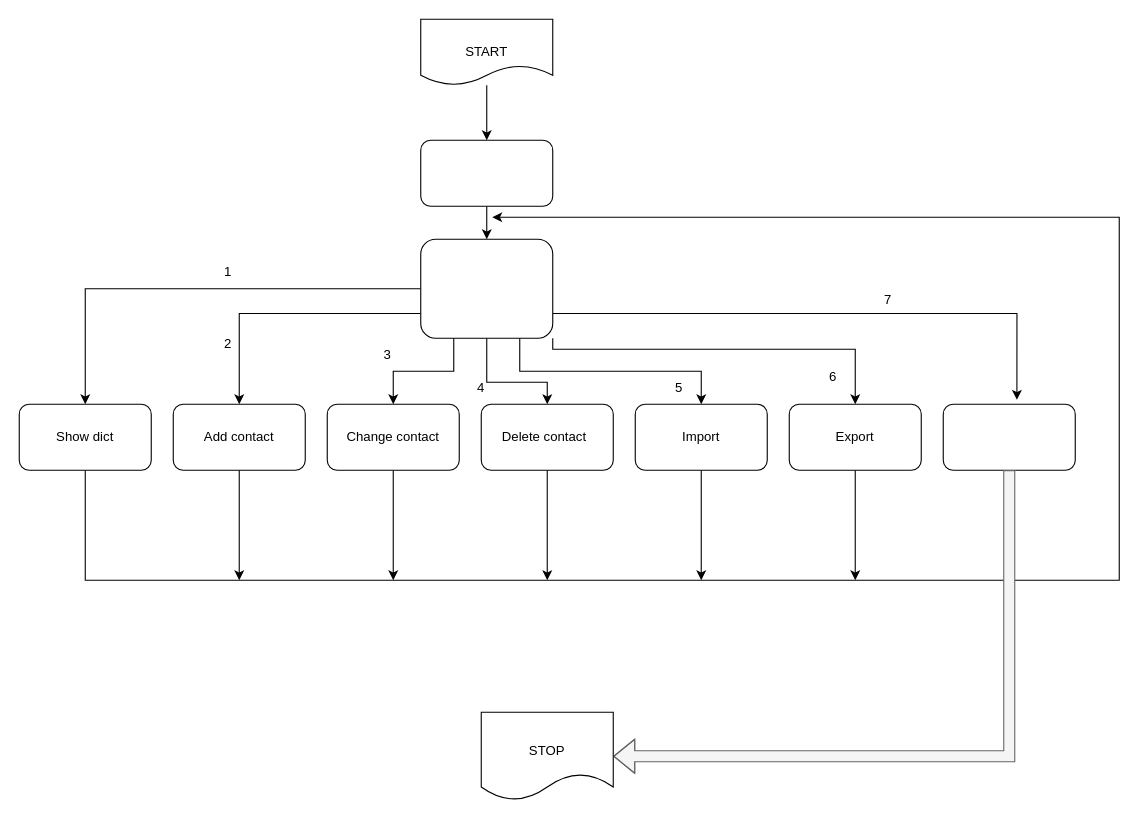
Some shapes in this 1147 by 820 pixel diagram are drawn without their labels. Each missing label, with the centre of its shape:
Exit: the point at 1008,436
interface menu: the point at 486,288
main: the point at 486,172
